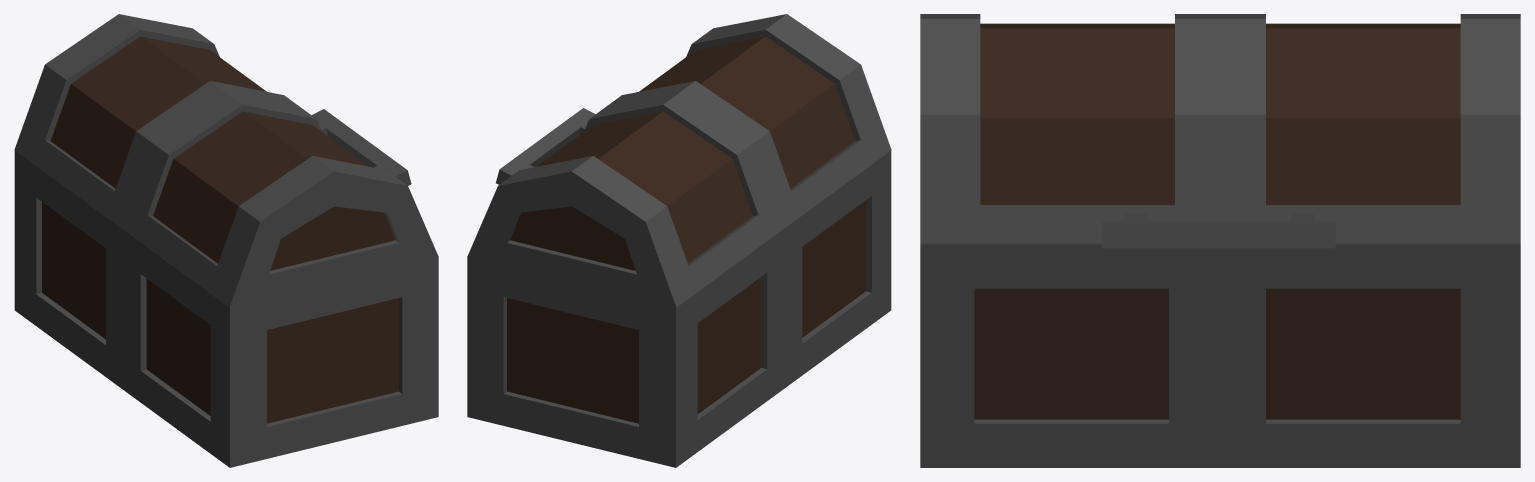
Rendered from envi_chest3.fbx.
The picture shows the model from 3 angles, left to right: view 1: azimuth 30°, elevation 25°; view 2: azimuth 150°, elevation 25°; view 3: azimuth 270°, elevation 25°; orthographic projection. The views are drawn at different scales.
Visible parts, largest first — view 1: polySurface8, pCube86, polySurface5; view 2: polySurface8, pCube86, polySurface5; view 3: pCube86, polySurface8, polySurface5.
Part boxes in pixels (x1=…): polySurface8: x1=14, y1=14, x2=437, y2=307; pCube86: x1=14, y1=150, x2=438, y2=467; polySurface5: x1=311, y1=109, x2=411, y2=185; polySurface8: x1=468, y1=14, x2=891, y2=307; pCube86: x1=467, y1=150, x2=891, y2=467; polySurface5: x1=496, y1=108, x2=595, y2=184; pCube86: x1=920, y1=243, x2=1520, y2=467; polySurface8: x1=920, y1=14, x2=1520, y2=244; polySurface5: x1=1101, y1=213, x2=1335, y2=248.
Bounding box in the file's own units: 2.1 × 2.21 × 3.17.
